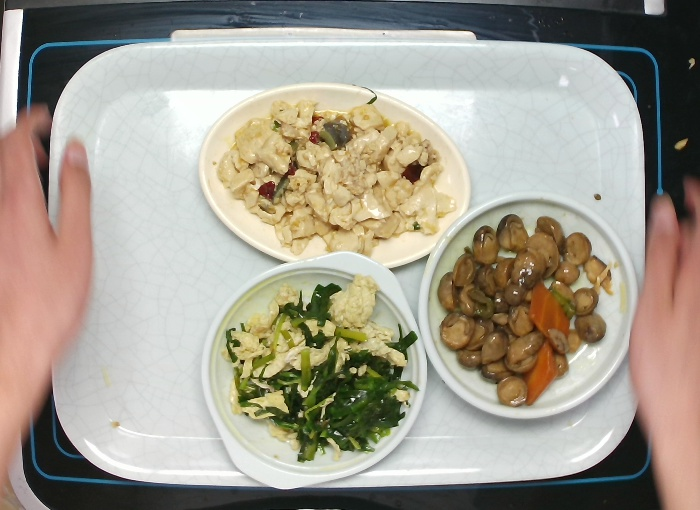JYsf-Shuang_Er_Pan: (192, 251, 431, 493)
JYsf-Tuo_Yuan_Wan: (196, 83, 479, 268)
JYsf-Xiao_Yuan_Pan: (412, 188, 643, 426)
